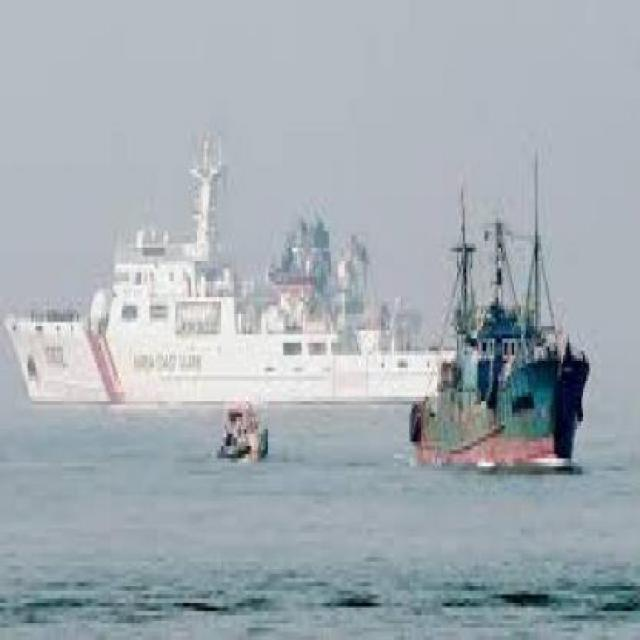Ship: (396, 130, 604, 493), (10, 235, 439, 408)
